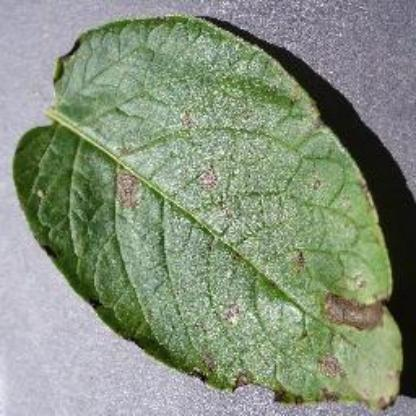Early-Blight: (13, 20, 407, 411)
